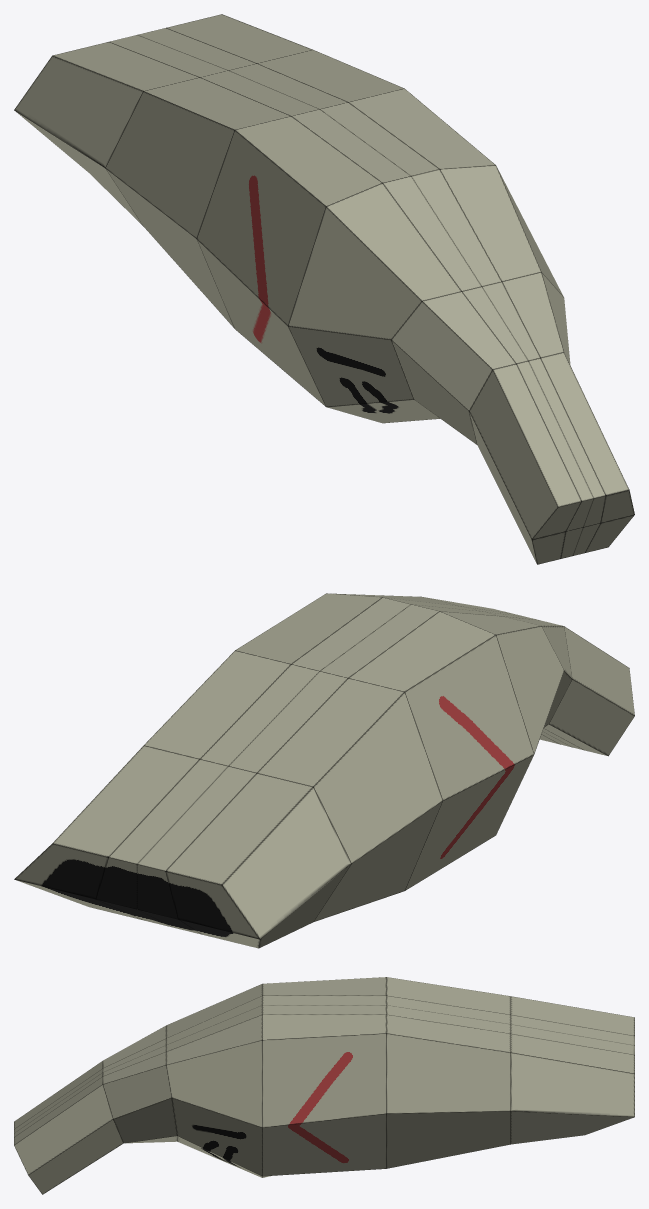
The model's file is DustBuster.glb.
The picture shows the model from 3 angles, top to bottom: view 1: azimuth 30°, elevation 25°; view 2: azimuth 150°, elevation 25°; view 3: azimuth 270°, elevation 25°; orthographic projection. The views are drawn at different scales.
Parts seen in each view (by area): view 1: DustBuster; view 2: DustBuster; view 3: DustBuster.
Boxes of the visible parts, bbox=[...] form: DustBuster: bbox=[14, 14, 634, 564]; DustBuster: bbox=[14, 593, 634, 948]; DustBuster: bbox=[14, 977, 634, 1194].
Size of the model in its own units: 0.3721 by 0.3776 by 1.19.
1 material, 1 textured.
